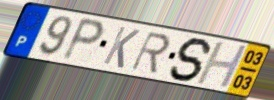9: (36, 14, 73, 58)
H: (193, 41, 250, 90)
K: (101, 25, 143, 71)
P: (59, 16, 106, 64)
R: (129, 30, 173, 76)
S: (167, 37, 214, 83)
